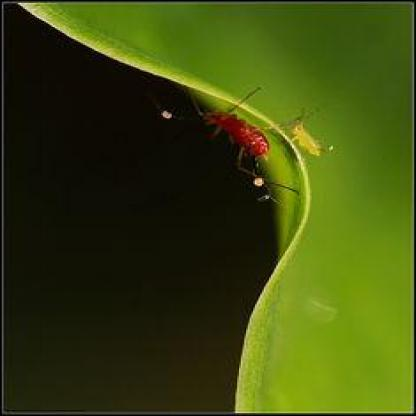aphid: (184, 91, 291, 204), (275, 104, 346, 172)
